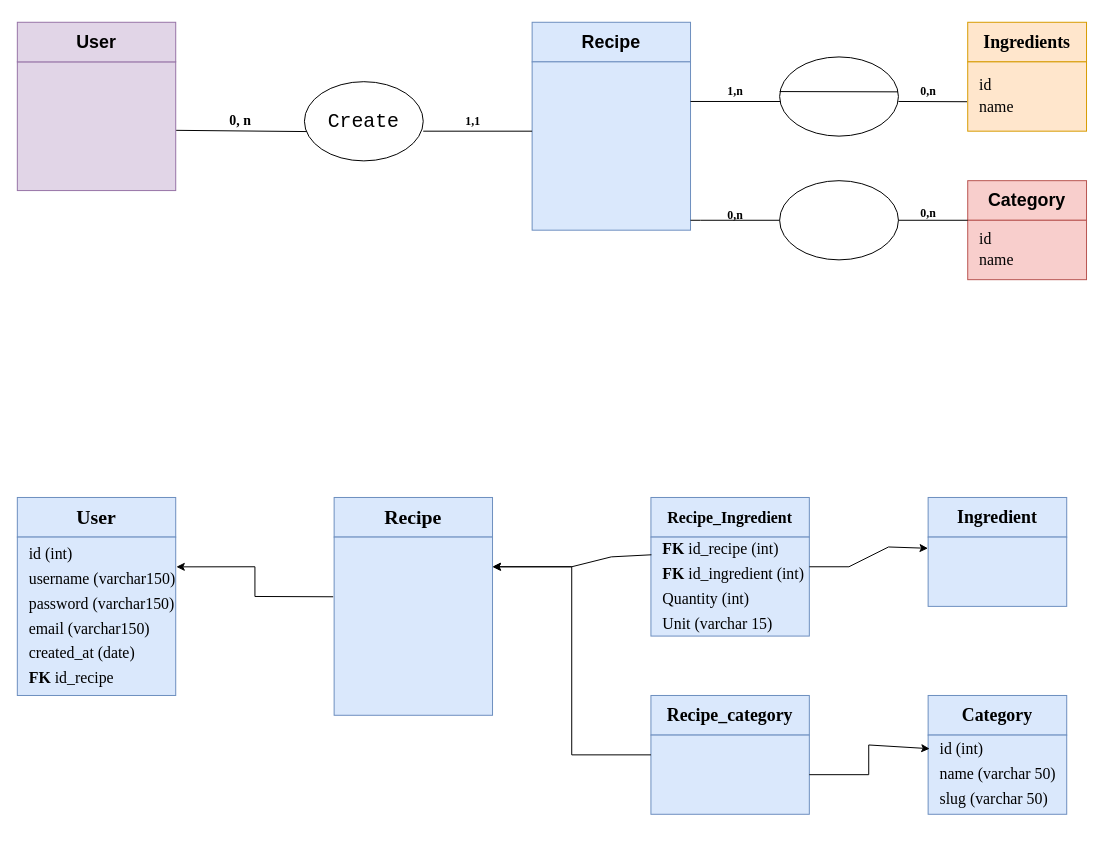
The diagram is 1104 pixels wide and 844 high, and some of its shapes have lost their labels. The box of each missing label's shape, as (x1, y1, x2, y2) in pixels:
Belong: (779, 180, 898, 260)
FK id_recipe (int) FK id_category (int): (650, 734, 809, 814)
id (int) FK id_user (int) name (varchar 150) img (varchar150) created_at (date): (333, 536, 493, 715)
id (int) name (varchar 100) slug (varchar 100): (927, 536, 1067, 606)
id name img author created_at: (531, 61, 691, 230)
id username password email created_at Favoris: (16, 61, 176, 191)
Include Quantity Unit (kg,g): (779, 56, 898, 136)
